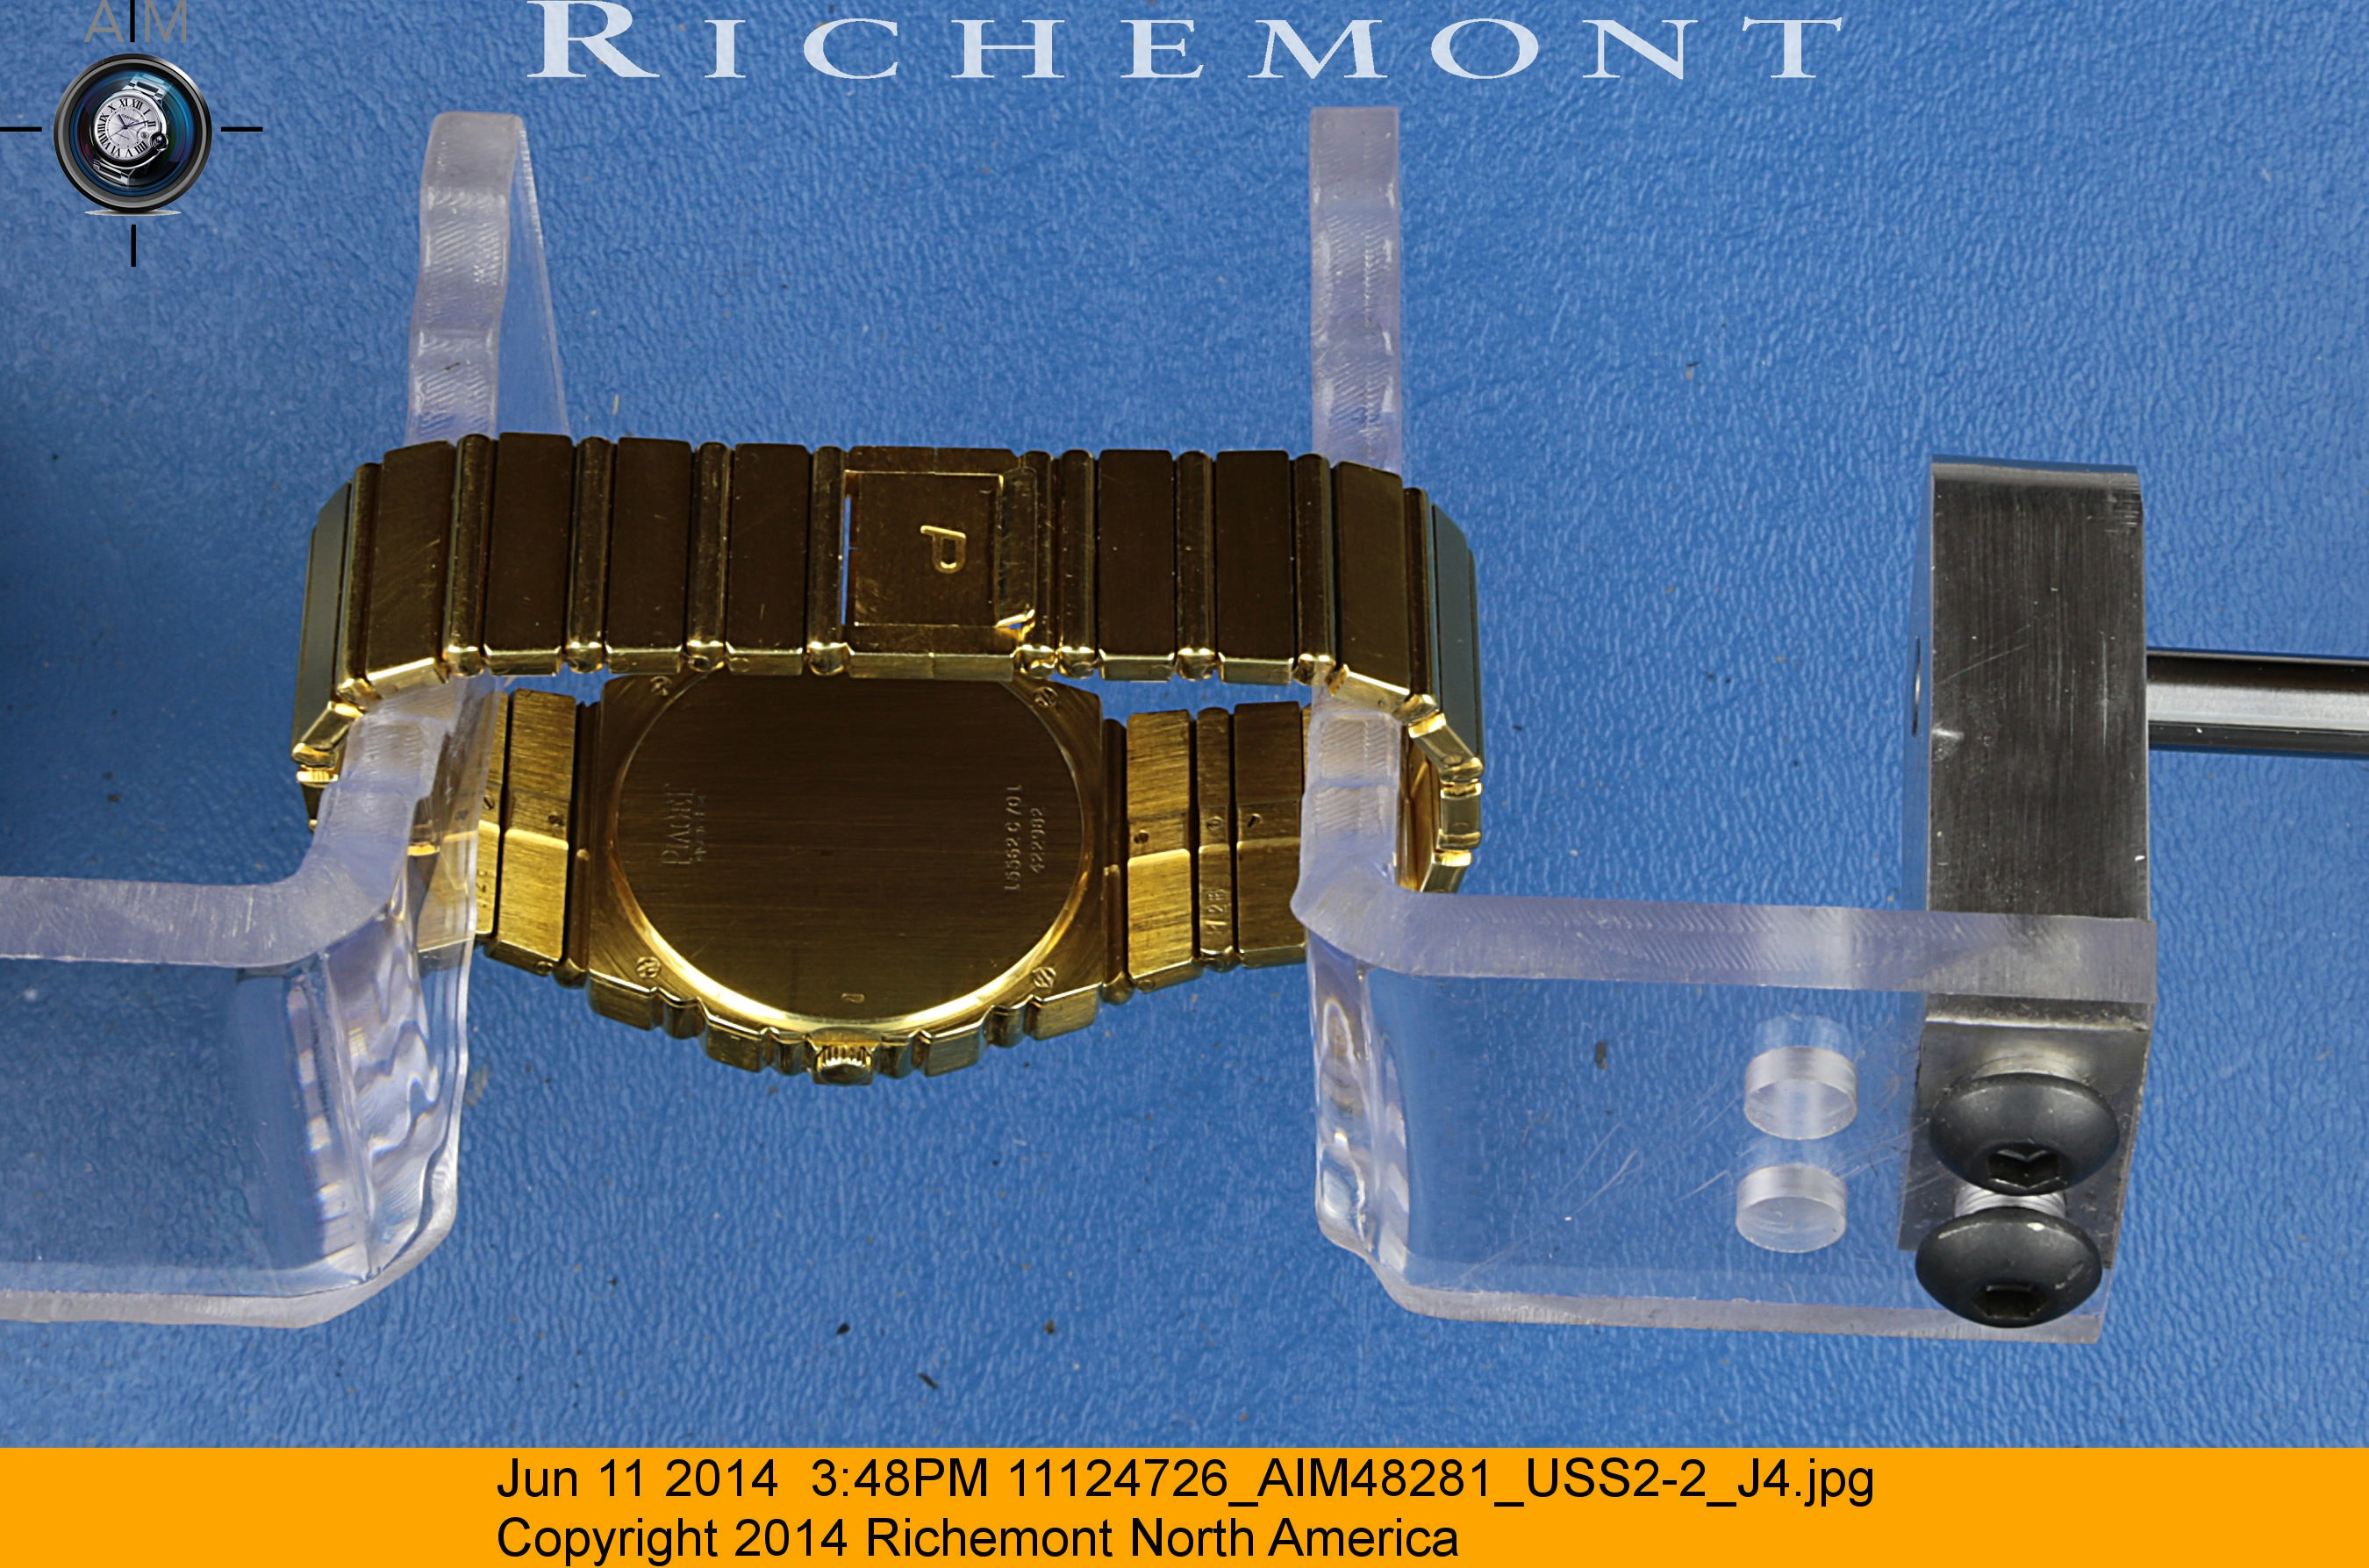Watch BackCase: (614, 689, 1108, 1097)
